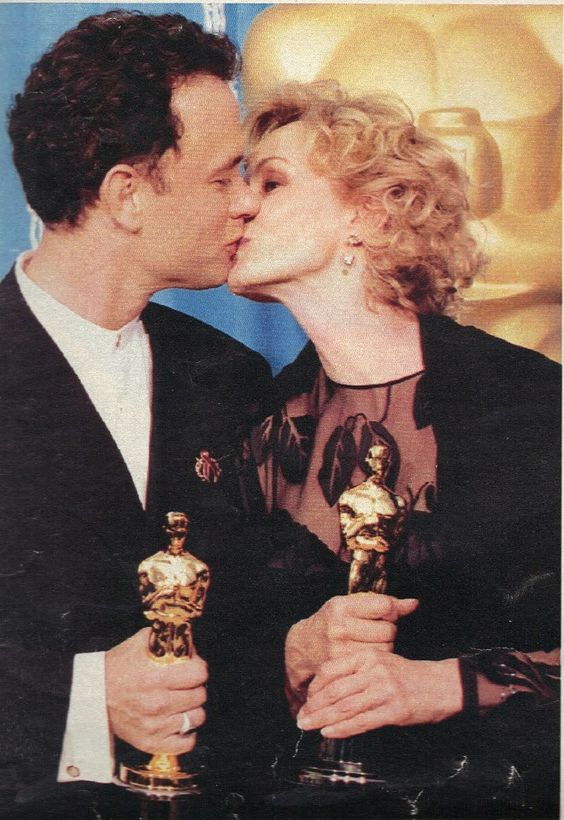hand: (285, 604, 402, 667)
